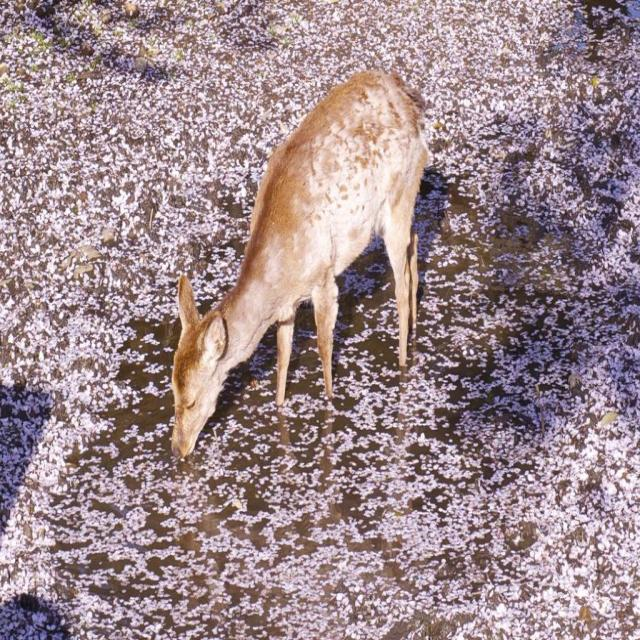Deer: (148, 49, 436, 477)
